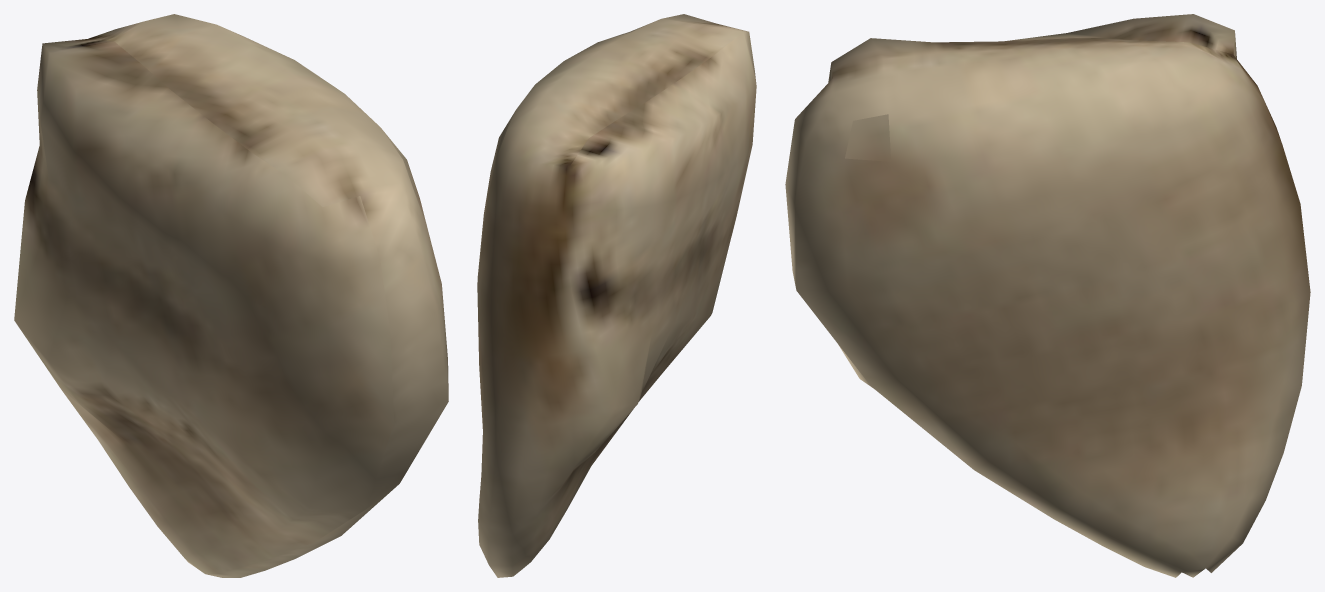
Rendered from Mandibular_Premolar.glb.
The picture shows the model from 3 angles, left to right: view 1: azimuth 30°, elevation 25°; view 2: azimuth 150°, elevation 25°; view 3: azimuth 270°, elevation 25°; orthographic projection. The views are drawn at different scales.
Parts seen in each view (by area): view 1: Premolar; view 2: Premolar; view 3: Premolar.
Boxes of the visible parts, x1,y1,x2,y2 form: Premolar: (14,14,448,577); Premolar: (477,14,756,577); Premolar: (785,14,1310,577).
Bounding box in the file's own units: 0.0175 × 0.0391 × 0.0368.
1 material, 1 textured.
